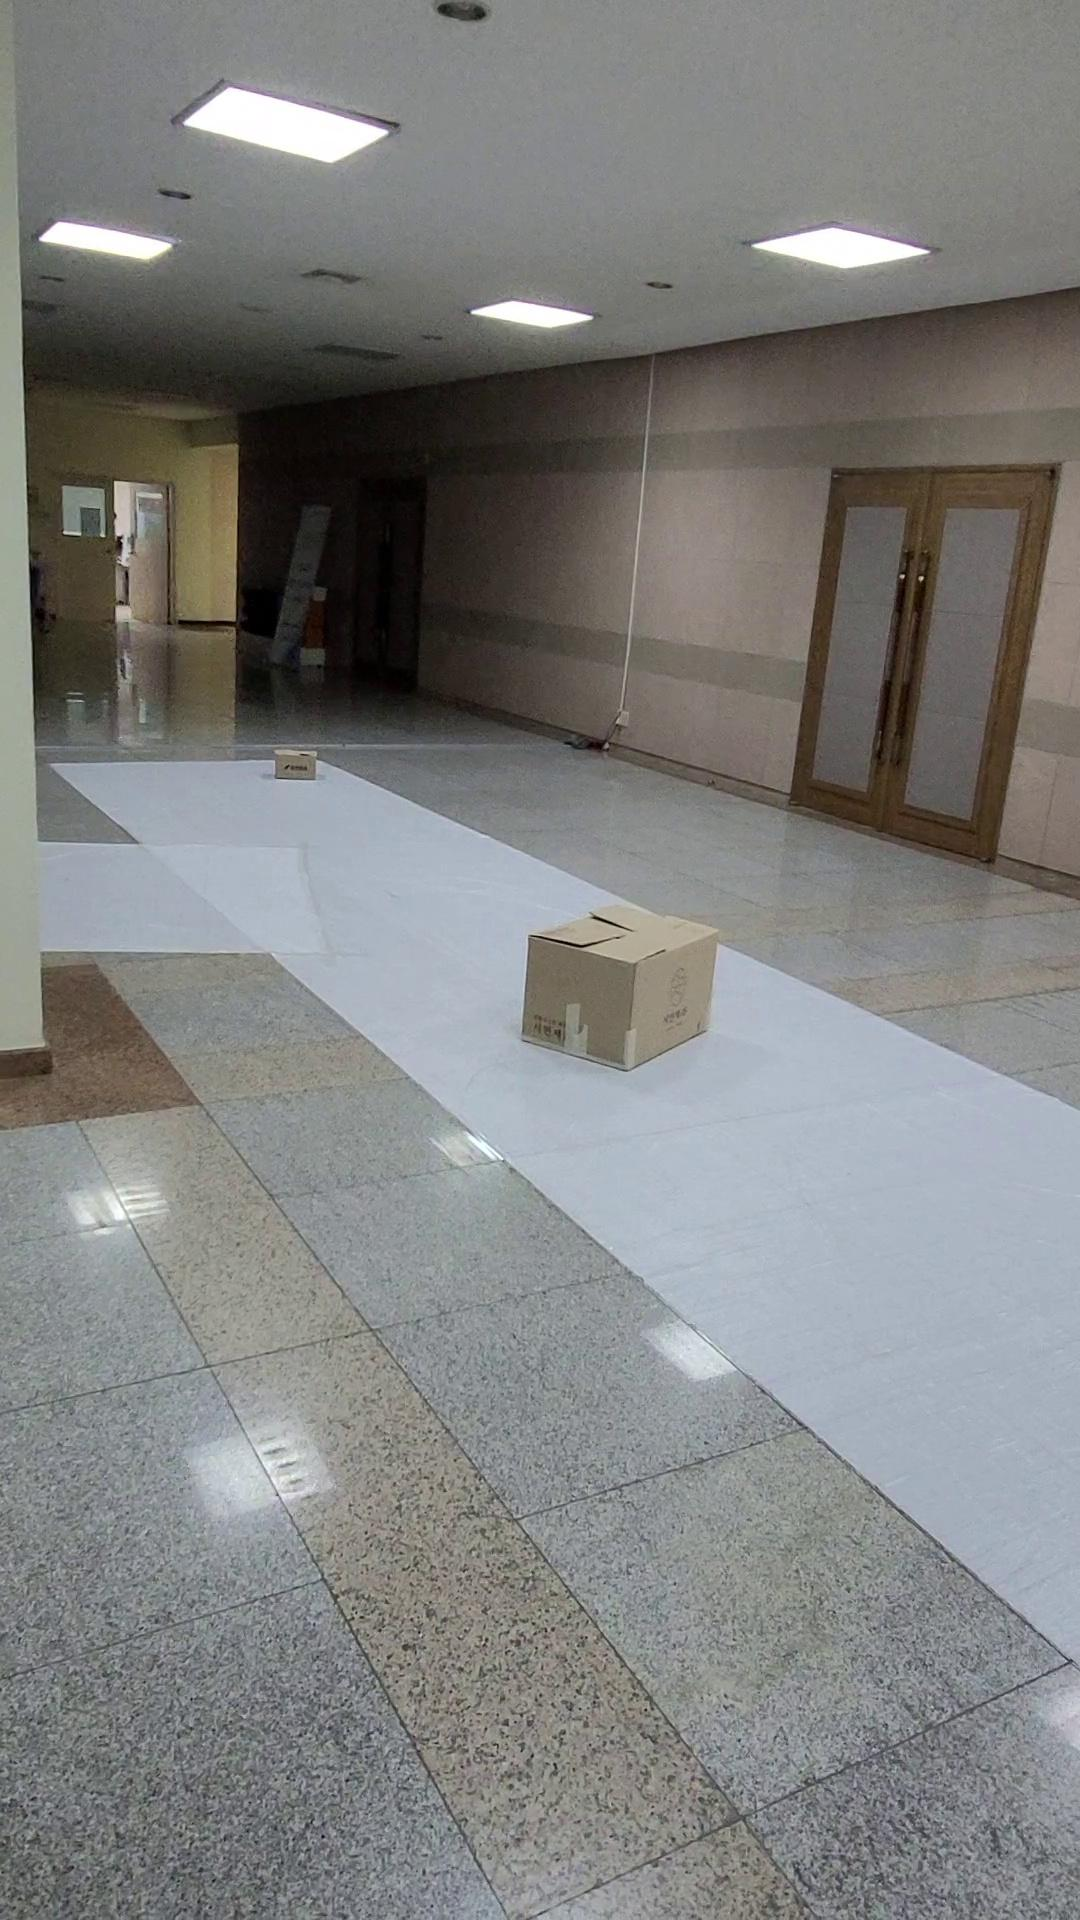Box: (487, 898, 746, 1080), (243, 720, 342, 795)
